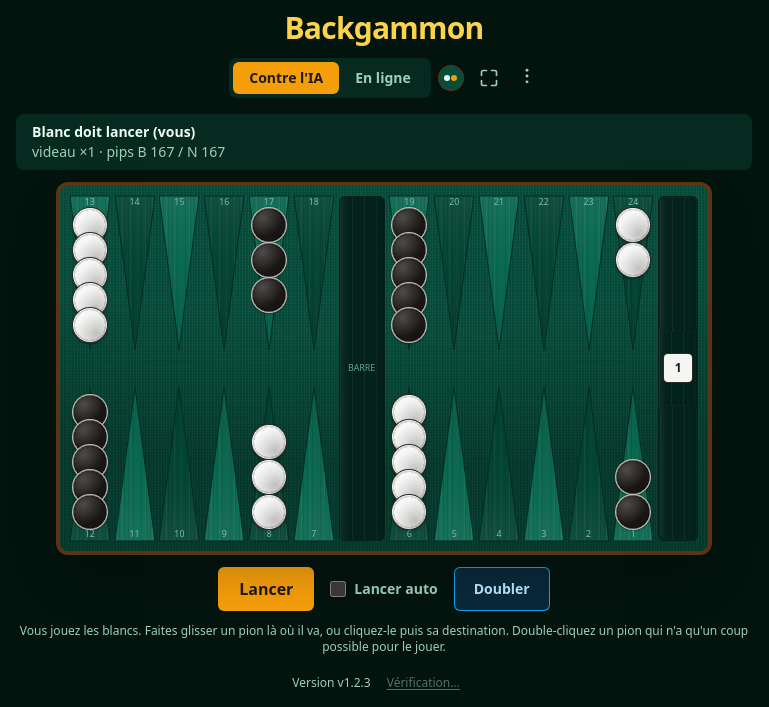
Test case: the abandon-the-game action › closes on Escape
Click the button named "Actions" at (527, 76), box [515,64,539,88]
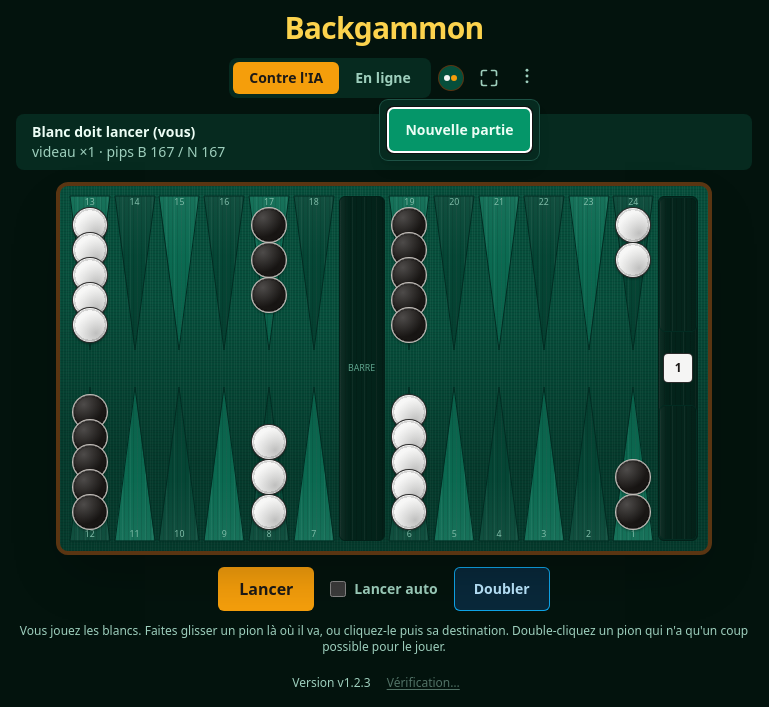
Press Escape
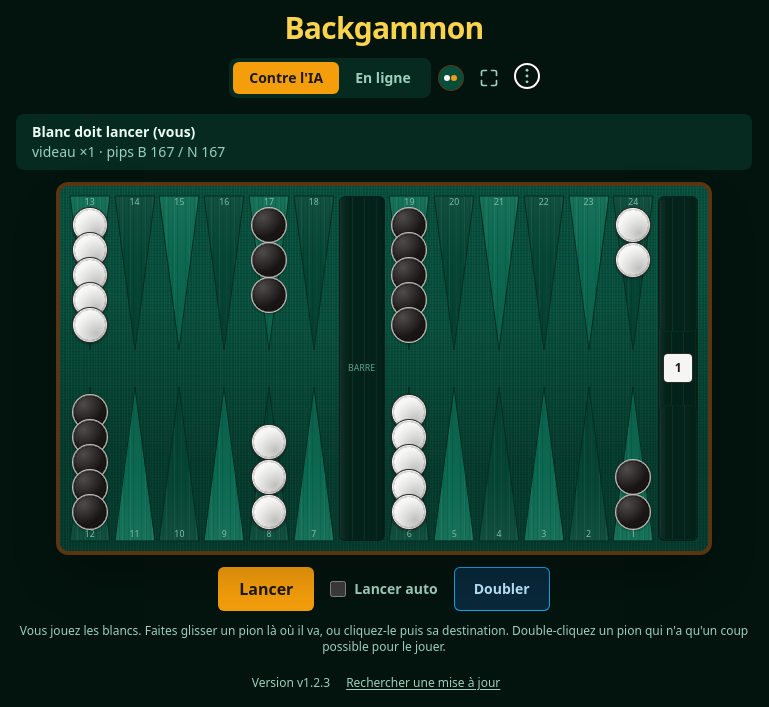
Check: the button named "Actions" is collapsed, box [515,64,539,88]
